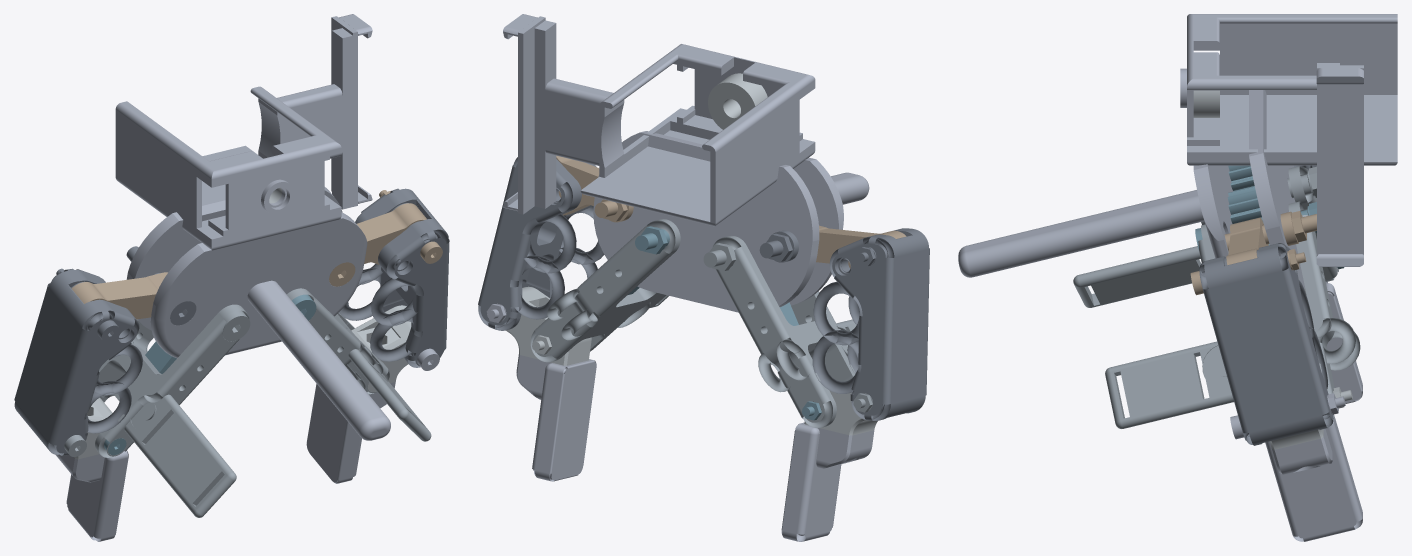
File: robotiq-assembled.glb
The picture shows the model from 3 angles, left to right: view 1: azimuth 30°, elevation 25°; view 2: azimuth 150°, elevation 25°; view 3: azimuth 270°, elevation 25°; orthographic projection. The views are drawn at different scales.
Visible parts, largest first — view 1: handheld-body, right-bar, right-proximal, left-bar, right-pad, left-proximal, left-pad, right-frame, left-frame, left-distal, right-distal, right-inner-chassis-pivot (+2 smaller); view 2: handheld-body, right-bar, left-bar, right-proximal, left-proximal, left-pad, right-pad, camera-support, left-distal, right-frame, right-distal, right-outer-chassis-pivot (+4 smaller); view 3: handheld-body, left-bar, left-proximal, left-pad, right-proximal, left-frame, right-pad, left-outer-chassis-pivot, left-drive, camera-support, right-drive, left-distal.
Part boxes in pixels (x1,y1,x2,y2): handheld-body: (115, 14, 390, 440); right-bar: (14, 268, 142, 455); right-proximal: (95, 304, 249, 517); left-bar: (339, 188, 449, 367); right-pad: (55, 450, 128, 541); left-proximal: (287, 288, 431, 441); left-pad: (306, 381, 395, 483); right-frame: (71, 272, 167, 319); left-frame: (357, 203, 426, 264); left-distal: (351, 305, 411, 382); right-distal: (74, 397, 112, 459); right-inner-chassis-pivot: (222, 310, 250, 341); handheld-body: (503, 14, 869, 312); right-bar: (812, 228, 929, 420); left-bar: (478, 157, 604, 330); right-proximal: (713, 236, 856, 428); left-proximal: (530, 219, 680, 362); left-pad: (516, 354, 596, 481); right-pad: (781, 422, 874, 541); camera-support: (708, 73, 767, 129); left-distal: (506, 286, 591, 365); right-frame: (816, 225, 906, 268); right-distal: (804, 390, 877, 435); right-outer-chassis-pivot: (759, 230, 798, 262); handheld-body: (958, 14, 1397, 288); left-bar: (1199, 243, 1333, 445); left-proximal: (1105, 201, 1360, 428); left-pad: (1265, 415, 1362, 541); right-proximal: (1073, 166, 1338, 307); left-frame: (1226, 217, 1268, 265); right-pad: (1306, 281, 1362, 403); left-outer-chassis-pivot: (1224, 211, 1316, 250); left-drive: (1227, 186, 1269, 245); camera-support: (1193, 90, 1219, 117); right-drive: (1228, 165, 1254, 191); left-distal: (1269, 429, 1323, 449).
Bounding box in the file's own units: 0.1528 × 0.1616 × 0.1334.
